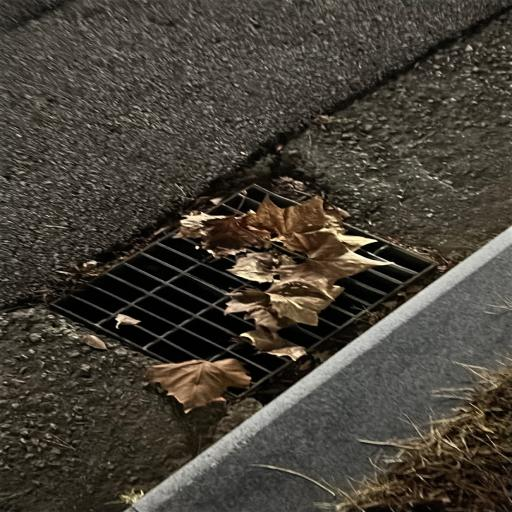debris: (176, 195, 376, 359), (176, 358, 251, 389), (376, 234, 440, 266), (213, 246, 236, 257), (120, 317, 135, 325)
drain: (48, 186, 448, 398)
